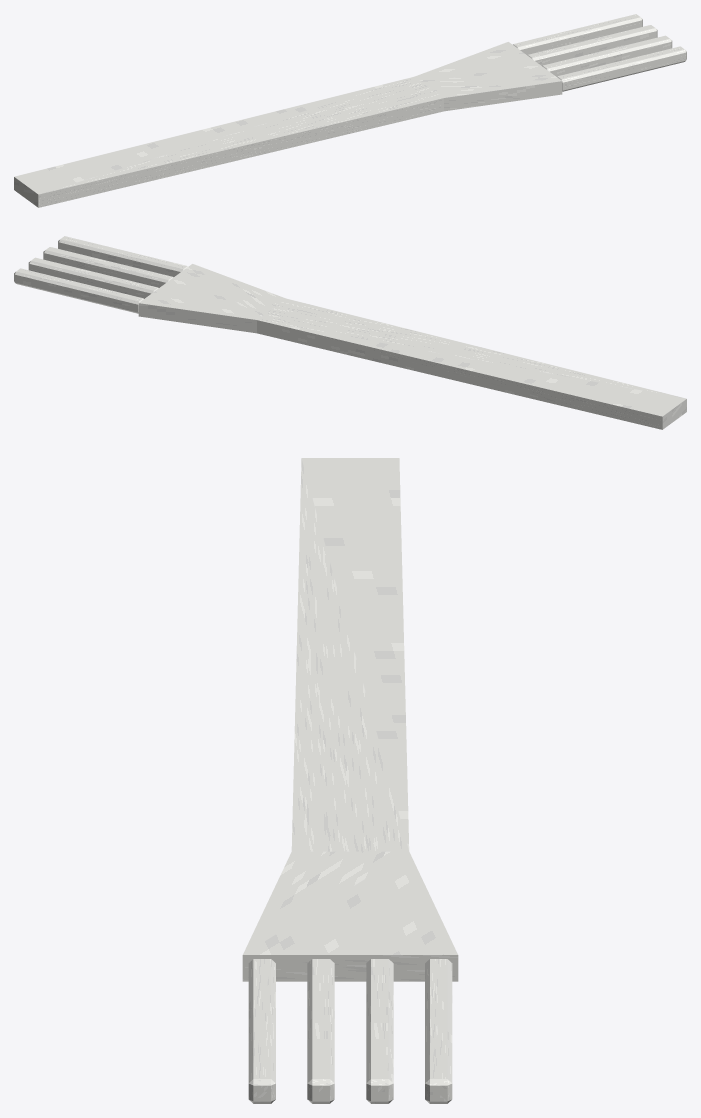
Rendered from plastic_fork.glb.
3 views of the same model, one above another, from view 1: azimuth 30°, elevation 25°; view 2: azimuth 150°, elevation 25°; view 3: azimuth 270°, elevation 25° (orthographic). The views are drawn at different scales.
Parts seen in each view (by area): view 1: block_handle, block_head, block_tine3, block_tine2, block_tine1, block_tine0; view 2: block_handle, block_head, block_tine0, block_tine1, block_tine2, block_tine3; view 3: block_handle, block_head, block_tine1, block_tine2, block_tine0, block_tine3.
Part boxes in pixels (x1,y1,x2,y2): block_handle: (14,76,443,207); block_head: (415,42,562,111); block_tine3: (557,46,686,91); block_tine2: (542,35,672,76); block_tine1: (527,25,657,65); block_tine0: (513,14,642,55); block_handle: (257,298,686,429); block_head: (138,264,285,333); block_tine0: (14,268,143,313); block_tine1: (28,257,158,298); block_tine2: (43,247,173,287); block_tine3: (58,236,187,277); block_handle: (291,458,409,851); block_head: (242,851,458,981); block_tine1: (366,959,393,1103); block_tine2: (307,959,334,1103); block_tine0: (425,959,452,1103); block_tine3: (248,959,275,1103).
Size of the model in its own units: 0.15 by 0.003 by 0.022.
Materials: 1 (1 with a texture image).
